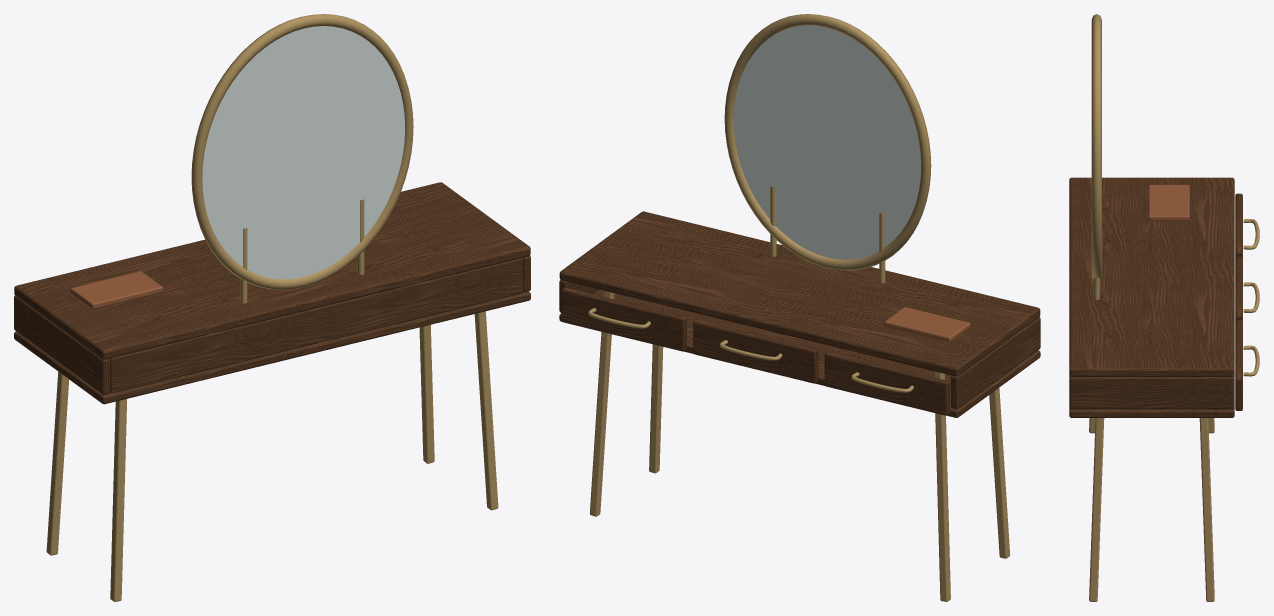
Rendered from residential-vanity-desk.glb.
The picture shows the model from 3 angles, left to right: view 1: azimuth 30°, elevation 25°; view 2: azimuth 150°, elevation 25°; view 3: azimuth 270°, elevation 25°; orthographic projection. The views are drawn at different scales.
Parts seen in each view (by area): view 1: walnut_surfaces, mirror_surfaces, bronze_surfaces, leather_surfaces; view 2: walnut_surfaces, mirror_surfaces, bronze_surfaces, leather_surfaces; view 3: walnut_surfaces, bronze_surfaces, leather_surfaces.
Part boxes in pixels (x1=…): walnut_surfaces: x1=14, y1=182, x2=530, y2=404; mirror_surfaces: x1=202, y1=26, x2=404, y2=279; bronze_surfaces: x1=46, y1=14, x2=498, y2=601; leather_surfaces: x1=70, y1=271, x2=163, y2=309; walnut_surfaces: x1=559, y1=211, x2=1040, y2=417; mirror_surfaces: x1=733, y1=25, x2=920, y2=259; bronze_surfaces: x1=588, y1=14, x2=1010, y2=601; leather_surfaces: x1=884, y1=307, x2=970, y2=342; walnut_surfaces: x1=1069, y1=177, x2=1242, y2=417; bronze_surfaces: x1=1089, y1=14, x2=1259, y2=601; leather_surfaces: x1=1148, y1=184, x2=1189, y2=221.
Size of the model in its own units: 1.32 by 1.58 by 0.5527.
4 materials, 1 textured.
